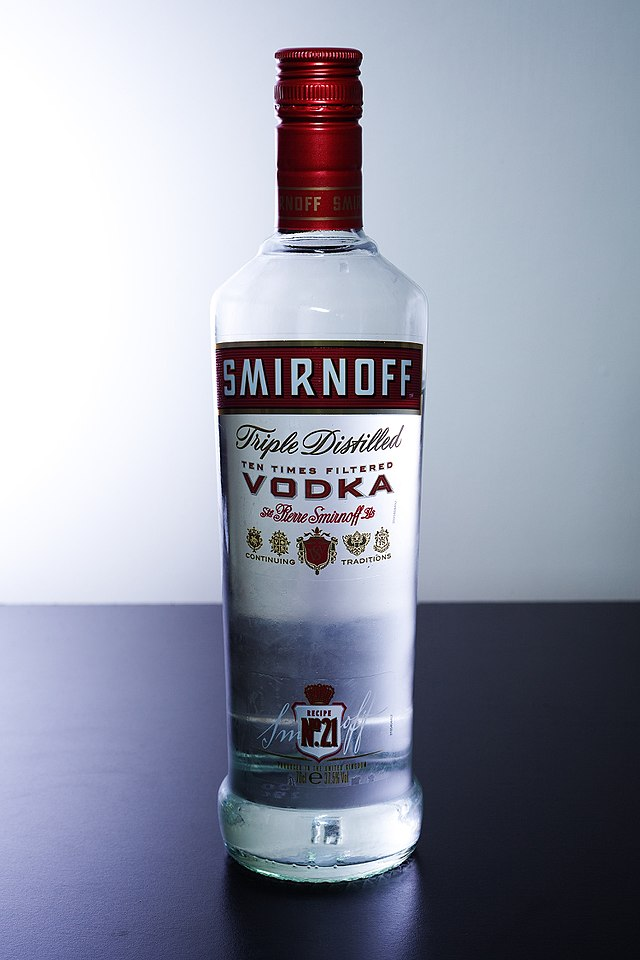Smirnoff: (181, 25, 460, 910)
